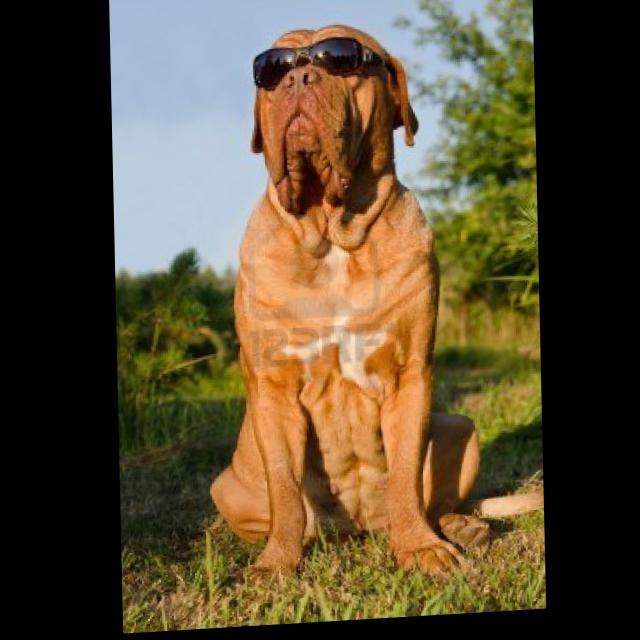dogue_de_bordeaux: (199, 22, 488, 602)
